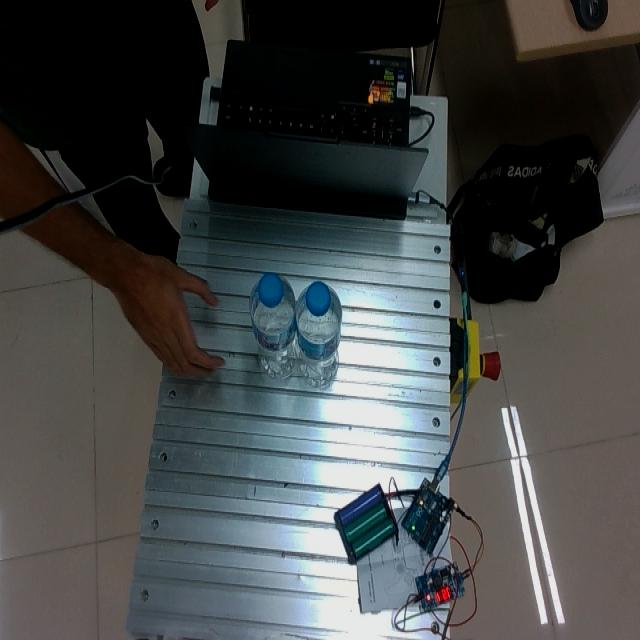lavie: (293, 280, 343, 389), (250, 272, 299, 380)
